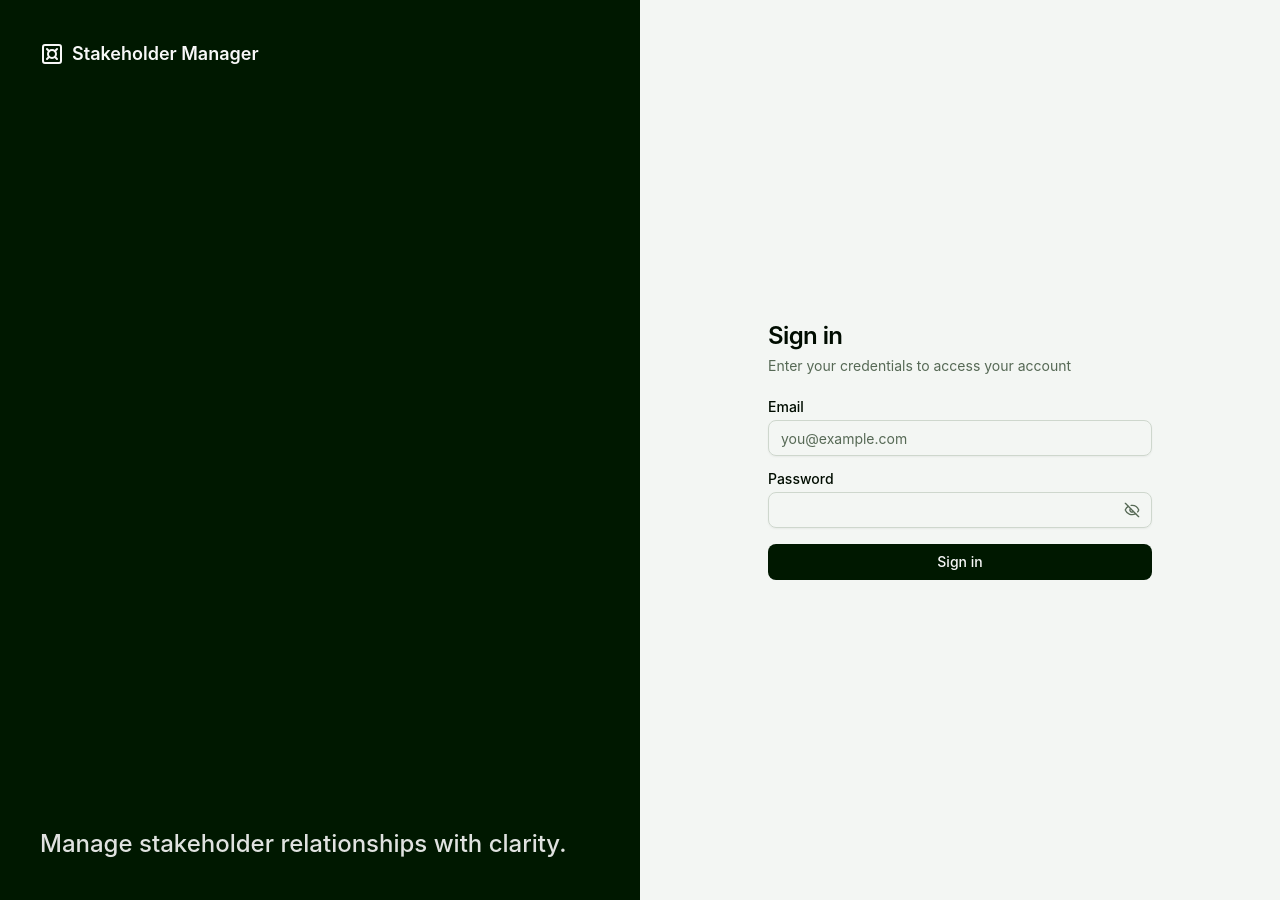
Test case: LoginPage › displays "Login failed." when login rejects with a non-Error
Type "bad@example.com" into the field labelled "Email". click: (960, 438)
box: [768, 420, 1152, 456]
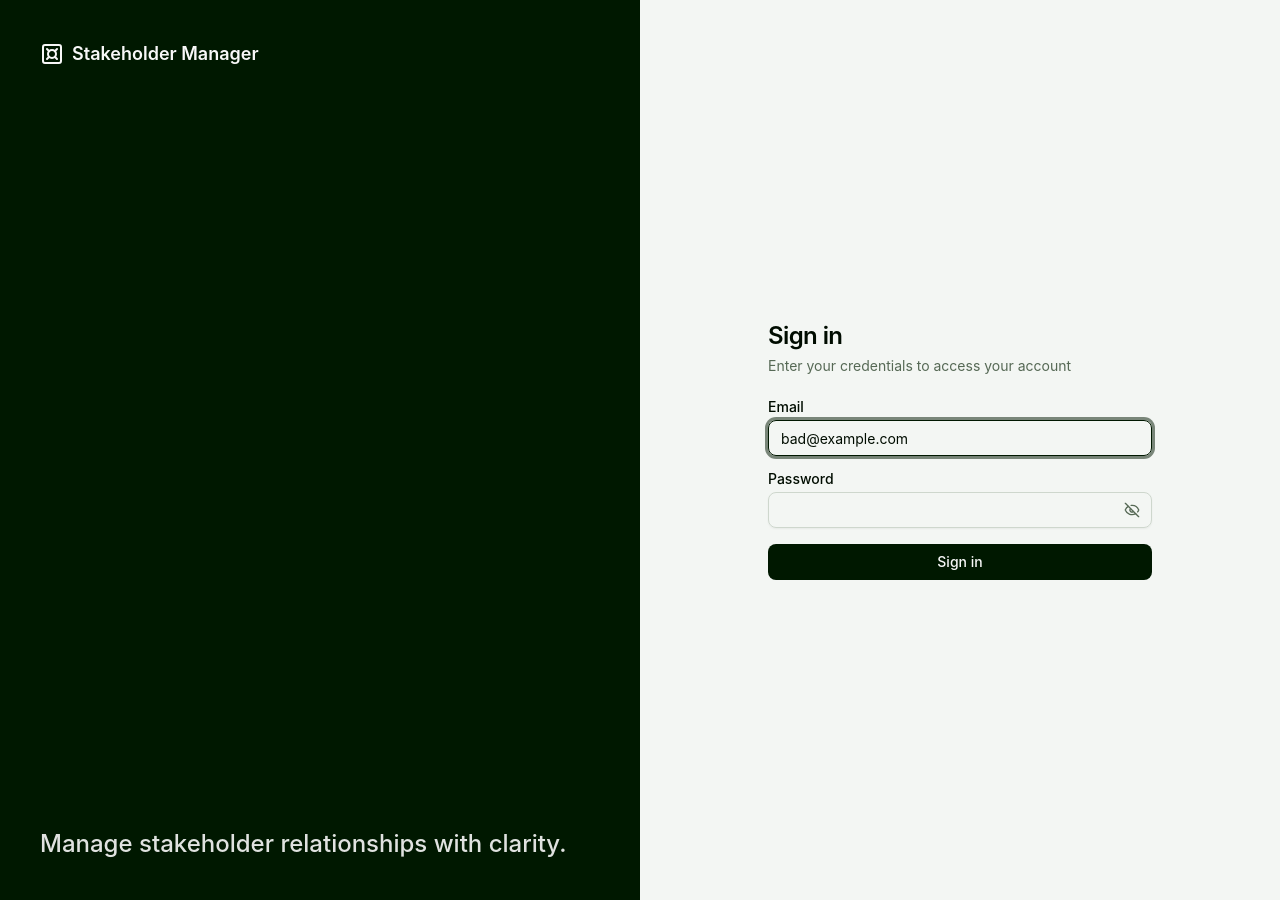
Type "wrong" into the password field labelled "Password". click: (960, 510)
box: [768, 492, 1152, 528]
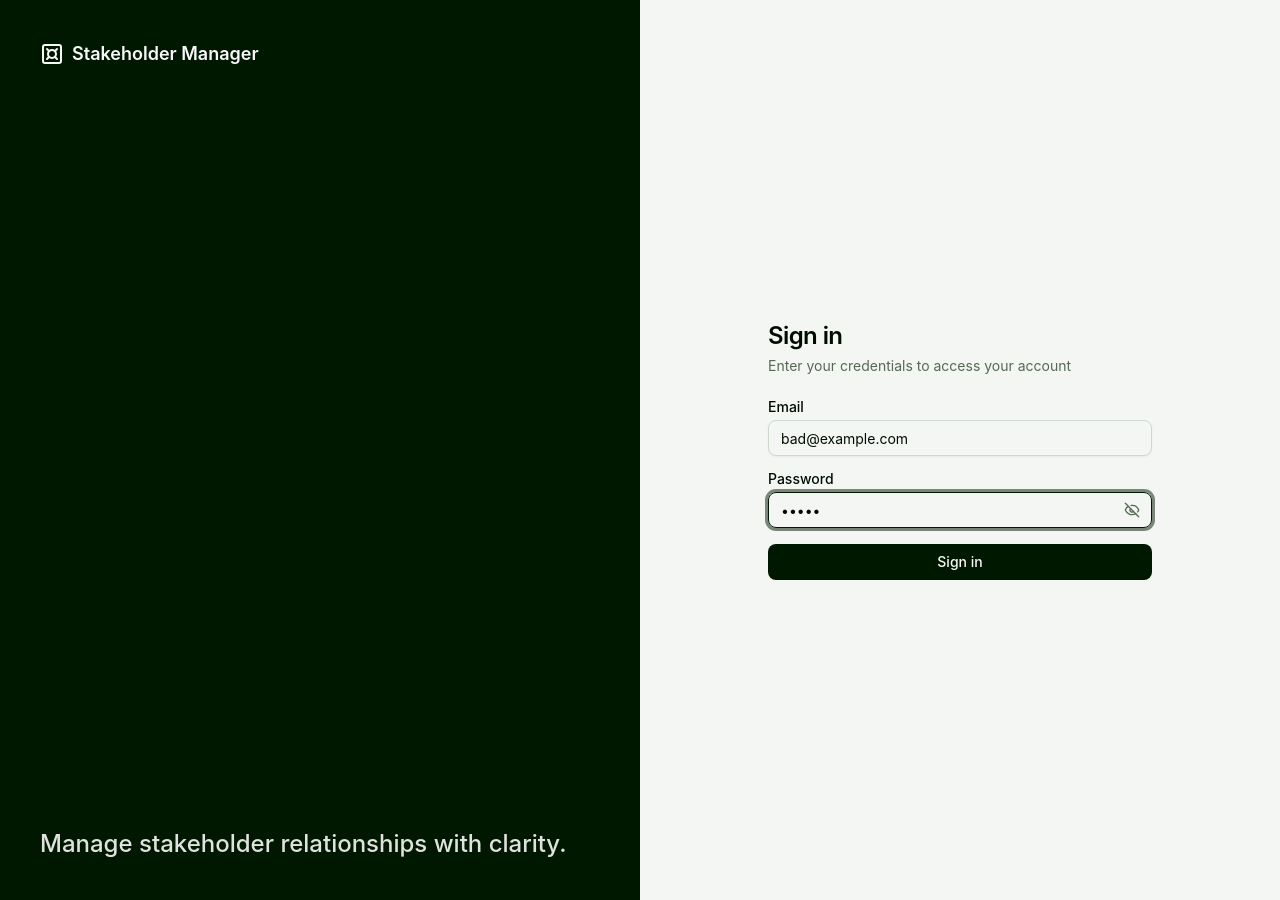
Click the button "Sign in". click: (960, 562)
box: [768, 544, 1152, 580]
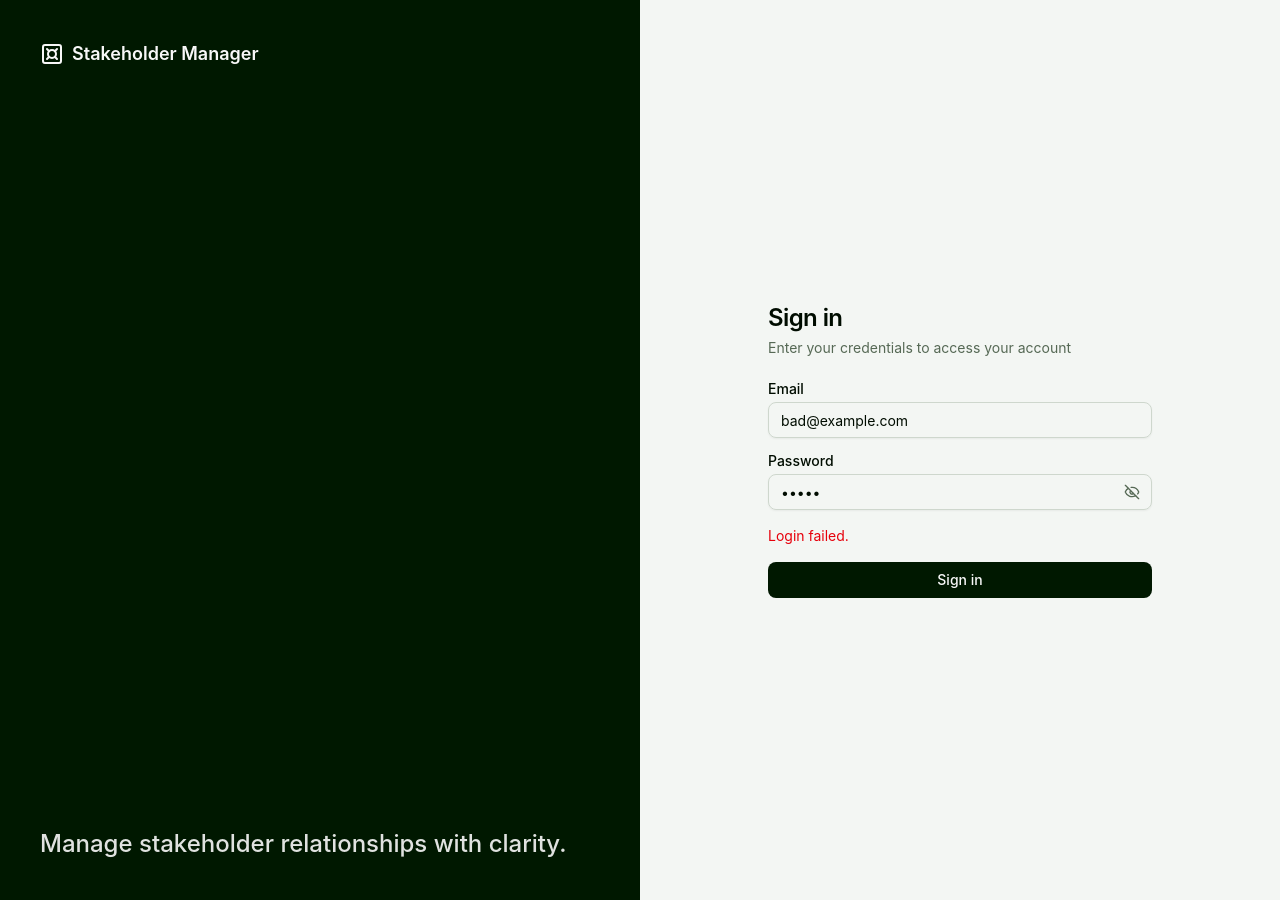
Check: the text "Login failed." is shown, box [768, 527, 849, 544]
